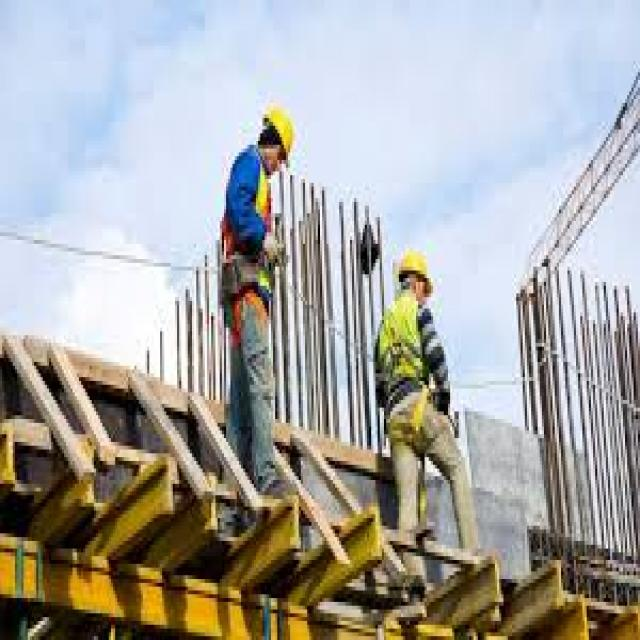Reflective-Jacket: (213, 145, 286, 339), (369, 294, 450, 449)
Safety-Helmet: (254, 88, 305, 175), (391, 236, 442, 305)
